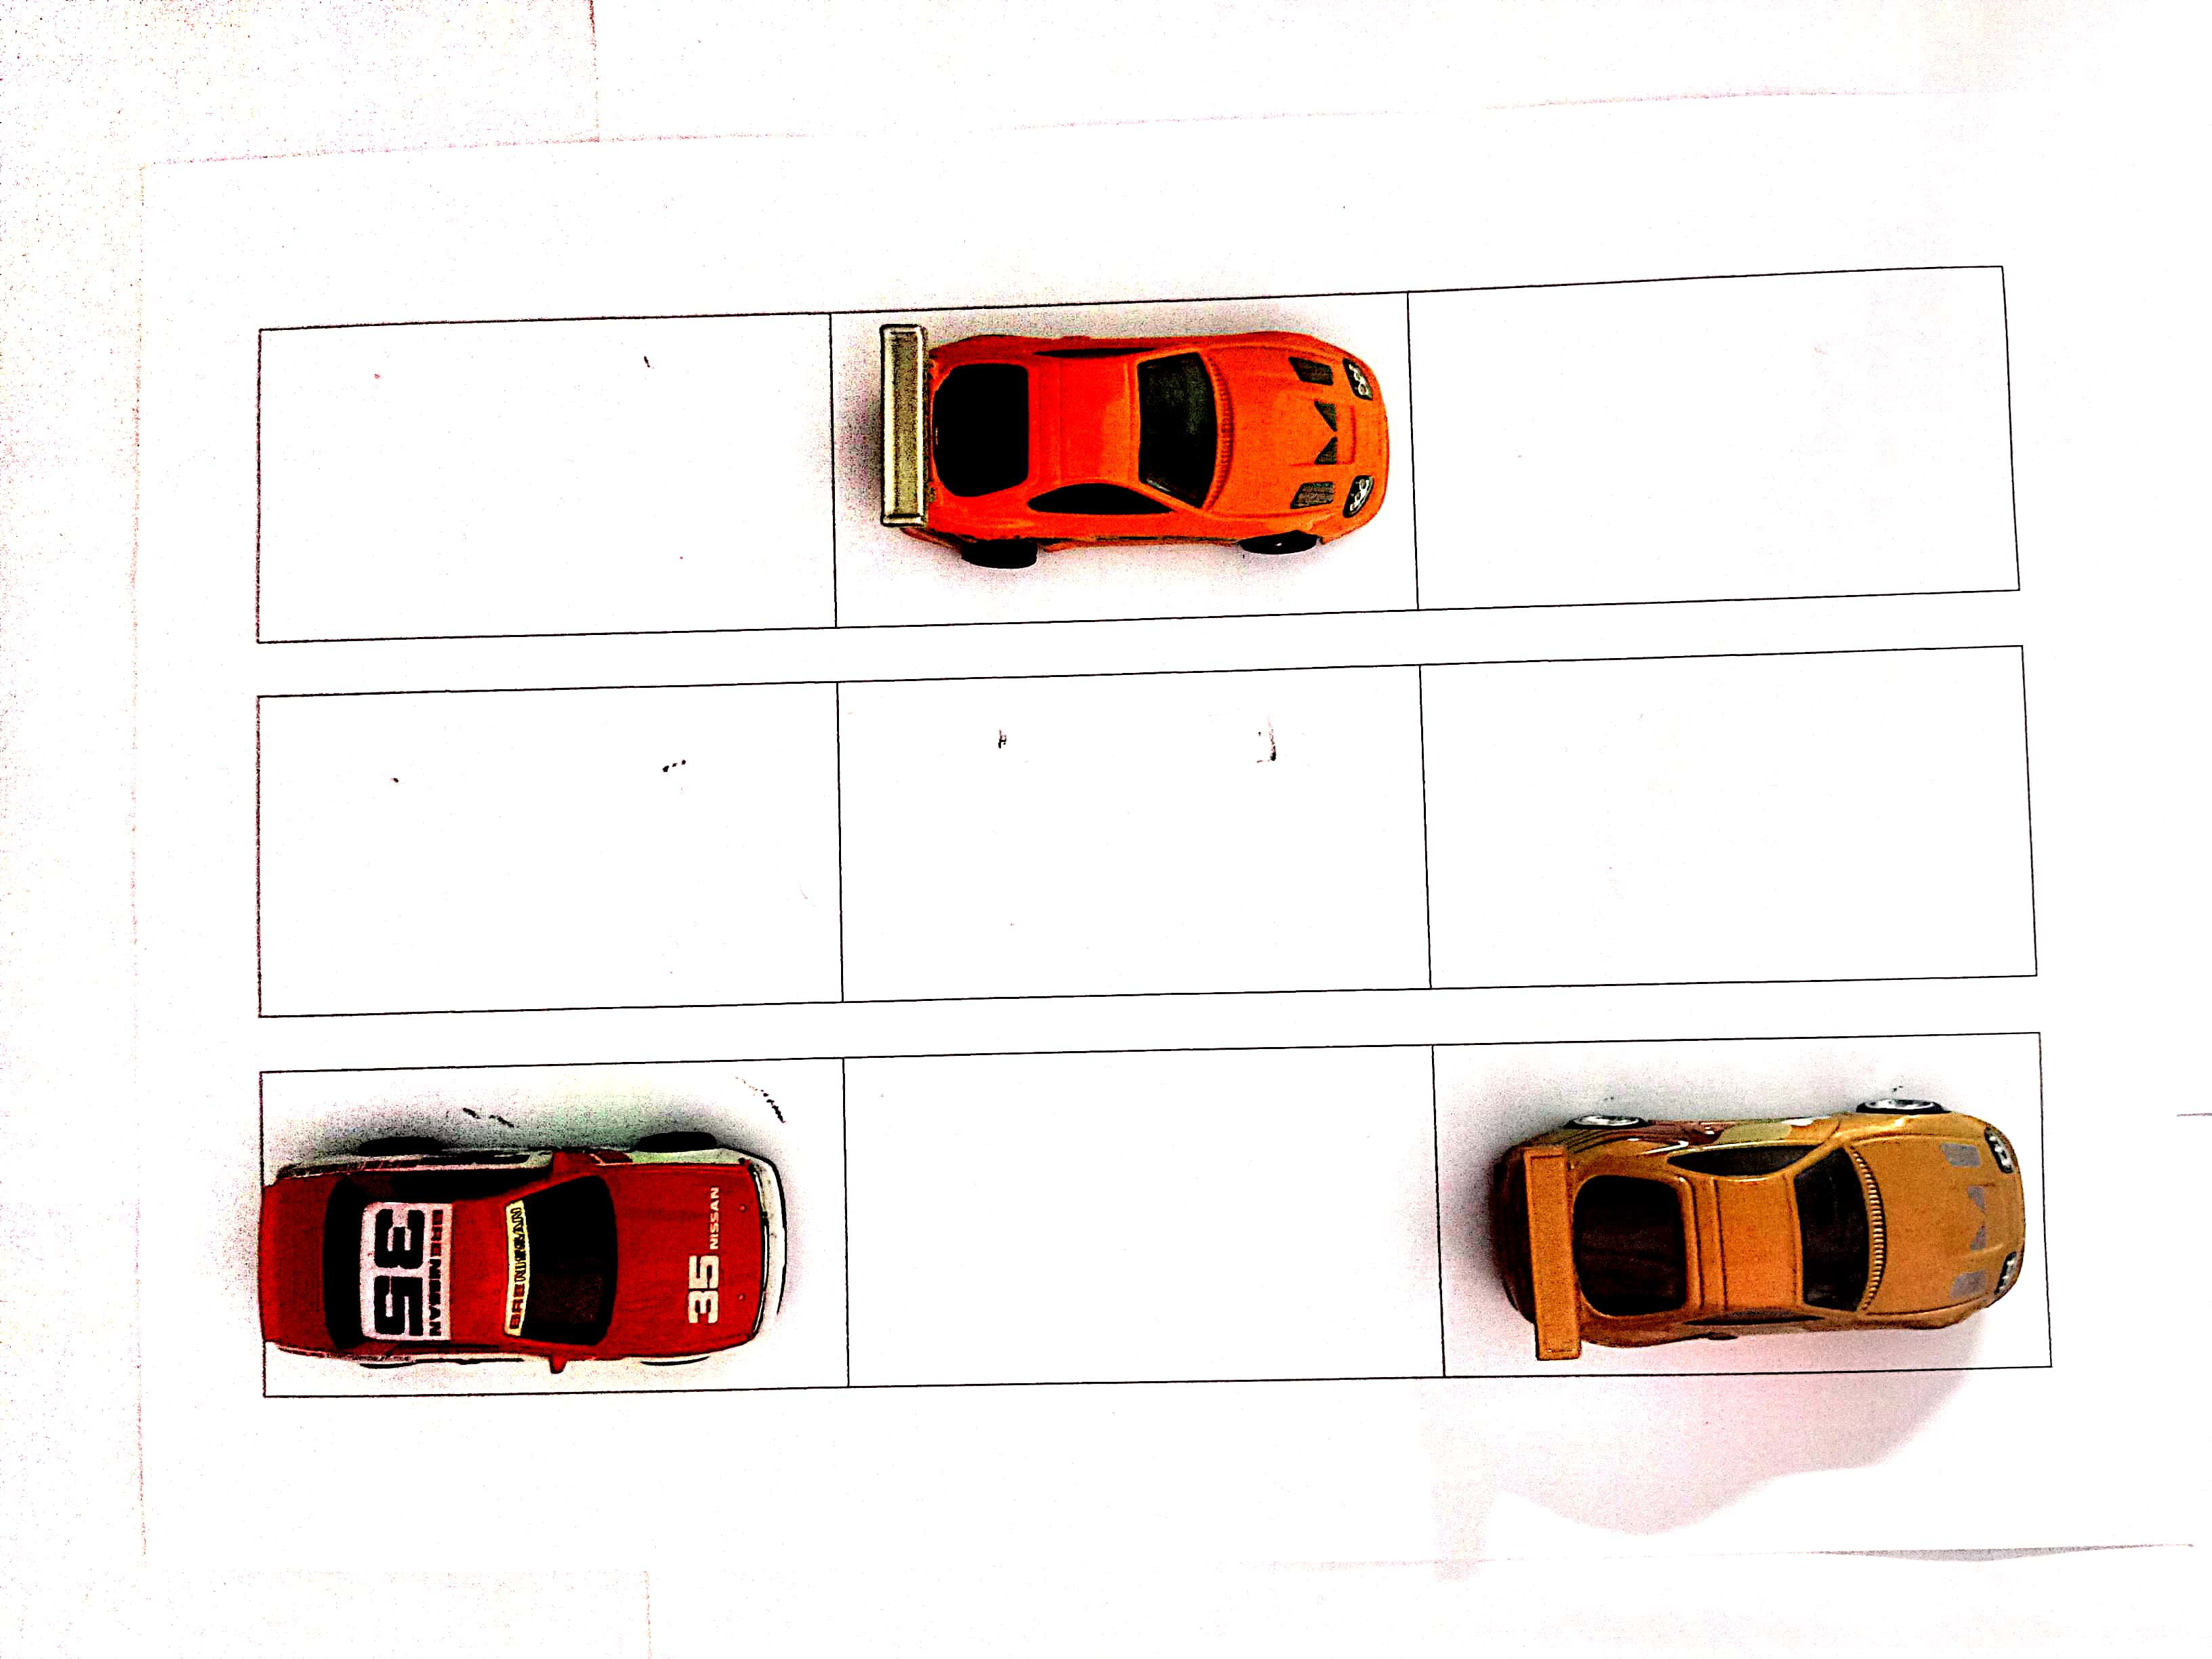Busy: (1433, 1037, 2045, 1366), (265, 1056, 843, 1387), (836, 293, 1407, 619)
Free: (843, 1049, 1428, 1389), (1432, 653, 2029, 983), (834, 671, 1420, 1002), (1420, 275, 2012, 598), (261, 310, 834, 636), (256, 692, 831, 1002)
